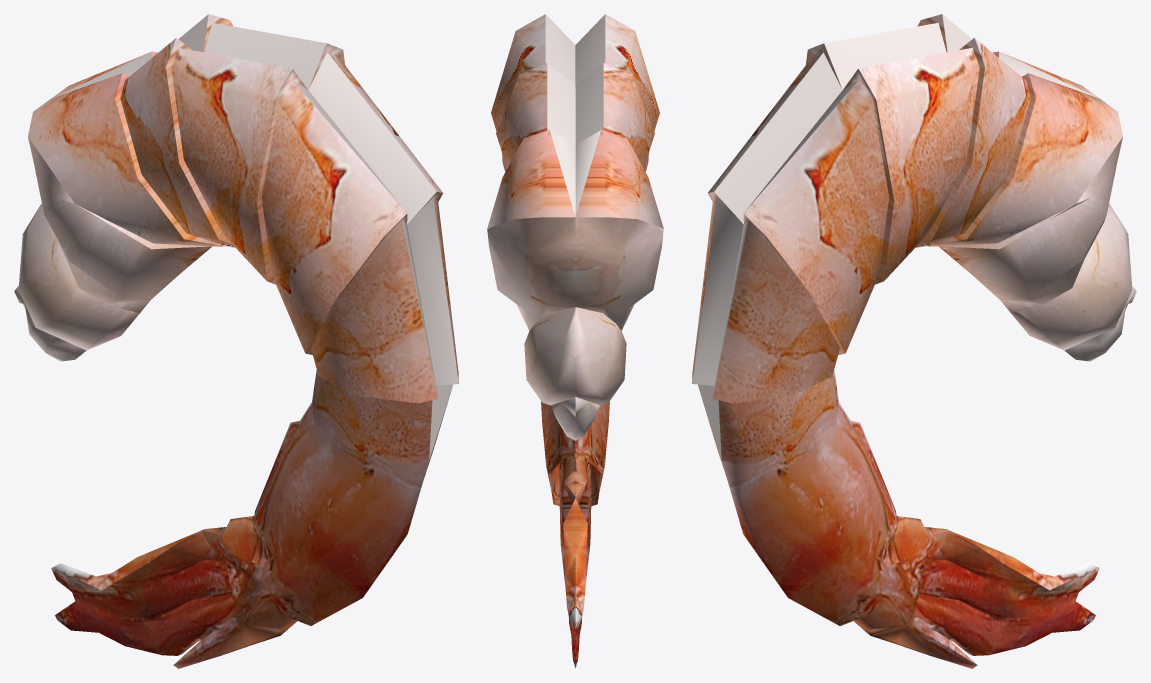
The model's file is shrimp_mesh.fbx.
3 views of the same model, side by side, from view 1: azimuth 30°, elevation 25°; view 2: azimuth 150°, elevation 25°; view 3: azimuth 270°, elevation 25° (orthographic). The views are drawn at different scales.
Visible parts, largest first — view 1: Group2, Group3, Group4, Group1; view 2: Group2, Group1, Group4, Group3; view 3: Group2, Group3, Group4, Group1.
Part boxes in pixels (left/top/right/bottom): Group2: left=28, top=14, right=458, bottom=464; Group3: left=250, top=402, right=432, bottom=625; Group4: left=51, top=515, right=297, bottom=668; Group1: left=14, top=137, right=211, bottom=361; Group2: left=487, top=14, right=663, bottom=228; Group1: left=487, top=217, right=663, bottom=440; Group4: left=559, top=447, right=591, bottom=668; Group3: left=541, top=401, right=609, bottom=506; Group2: left=692, top=14, right=1122, bottom=464; Group3: left=718, top=402, right=900, bottom=625; Group4: left=853, top=515, right=1099, bottom=668; Group1: left=939, top=137, right=1136, bottom=361.
Size of the model in its own units: 2.73 by 6.17 by 3.85.
